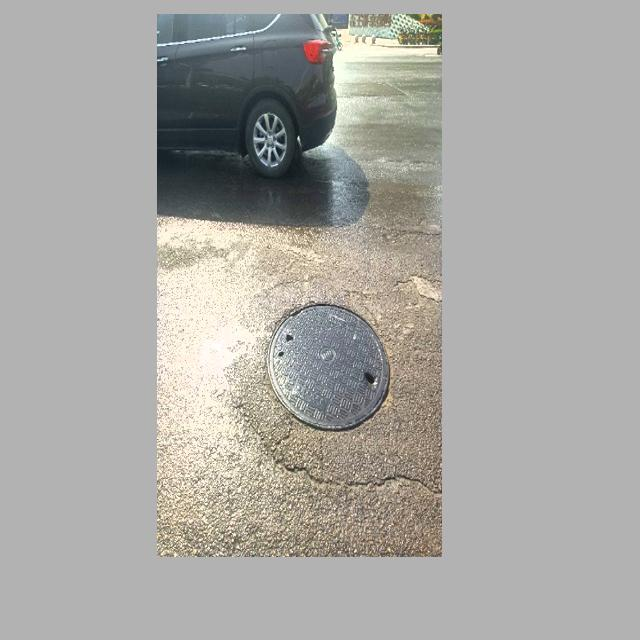good: (268, 302, 390, 430)
